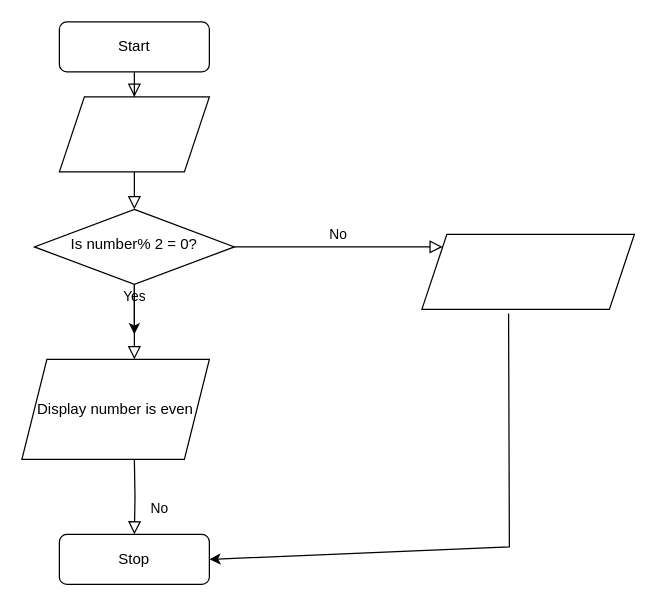
The diagram is 656 pixels wide and 606 high, and some of its shapes have lost their labels. Each missing label, with the centre of its shape:
"Display number is odd" goes at point (527, 271).
"Input number" goes at point (133, 134).
